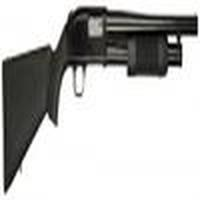gun: (1, 7, 200, 186)
